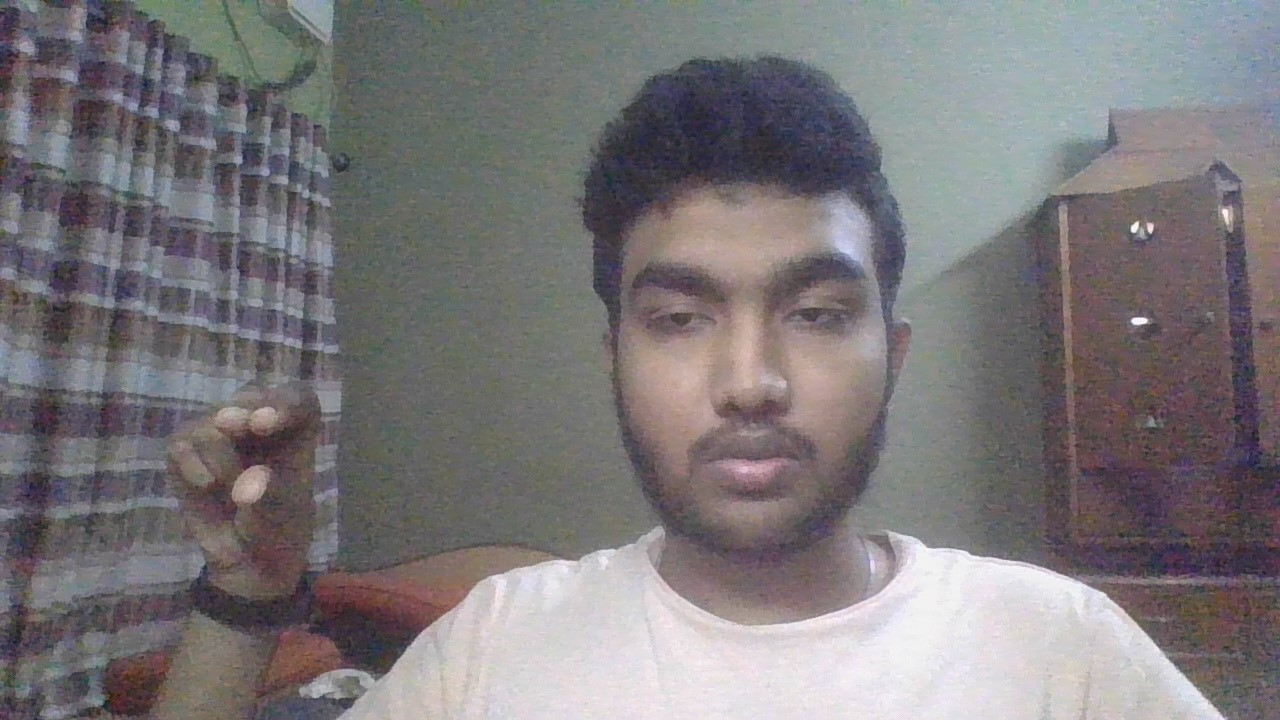No: (145, 368, 375, 612)
